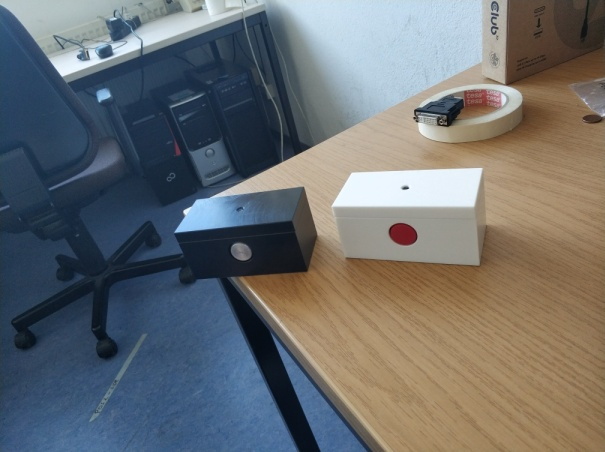black+black+silver: (172, 185, 320, 280)
white+white+red: (331, 167, 488, 267)
